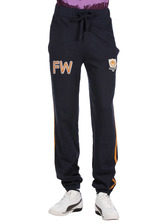clothoes: (42, 2, 126, 193)
shoes: (92, 192, 122, 223), (50, 189, 83, 217)
